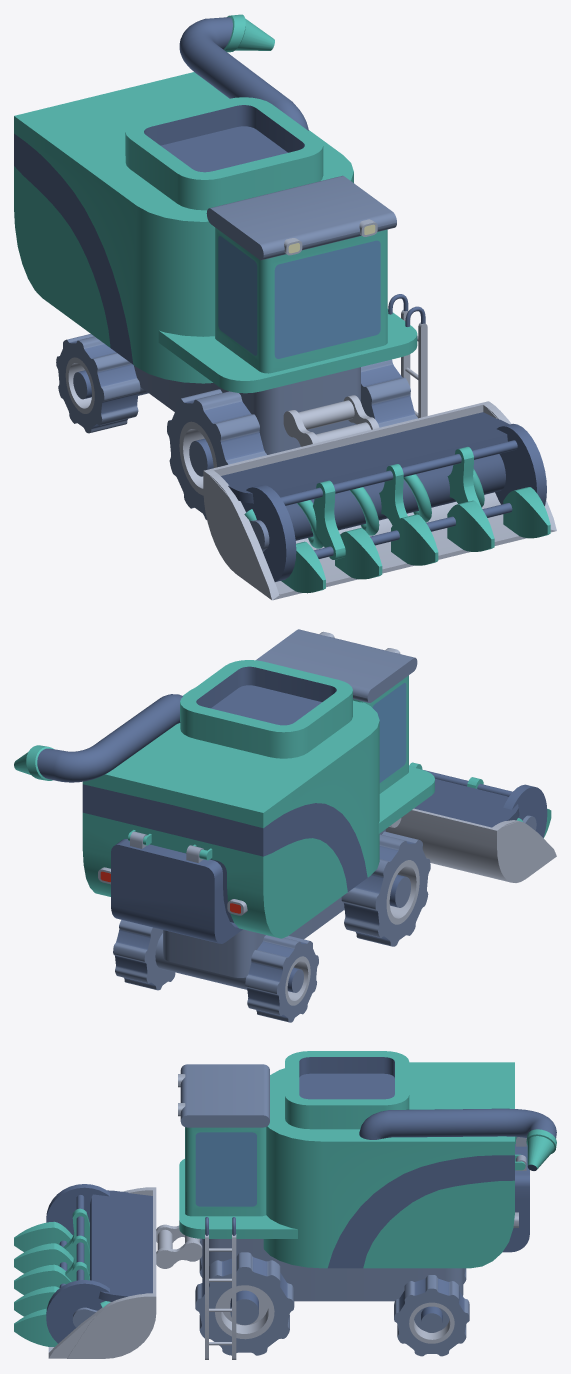
File: Harvester.fbx
3 renders of one model, top to bottom at view 1: azimuth 30°, elevation 25°; view 2: azimuth 150°, elevation 25°; view 3: azimuth 270°, elevation 25°, orthographic. The views are drawn at different scales.
Parts seen in each view (by area): view 1: Body, nozzle 001, Thresher, Wheel harvester front, Wheel harvester back right, Tube, Nozzle 002, nozzle Spiral, Nozzle 01; view 2: Body, Door, nozzle 001, Wheel harvester front, Tube, Wheel harvester back right, Wheel harvester back left, Thresher, Nozzle 002, Wheel harvester back; view 3: Body, nozzle 001, Wheel harvester front, Tube, Thresher, Wheel harvester back left, Nozzle 002, Door, Nozzle 02.
Boxes of the visible parts, x1,y1,x2,y2 form: Body: [14, 72, 427, 454]; nozzle 001: [203, 401, 556, 600]; Thresher: [241, 423, 546, 581]; Wheel harvester front: [167, 359, 417, 519]; Wheel harvester back right: [56, 334, 140, 433]; Tube: [179, 14, 308, 130]; Nozzle 002: [211, 401, 511, 512]; nozzle Spiral: [244, 469, 484, 548]; Nozzle 01: [283, 395, 378, 446]; Body: [82, 629, 434, 977]; Door: [111, 831, 242, 943]; nozzle 001: [386, 778, 556, 882]; Wheel harvester front: [341, 831, 430, 946]; Tube: [14, 694, 182, 782]; Wheel harvester back right: [245, 935, 318, 1022]; Wheel harvester back left: [113, 920, 175, 990]; Thresher: [409, 762, 547, 837]; Nozzle 002: [422, 820, 517, 882]; Wheel harvester back: [155, 933, 247, 989]; Body: [178, 1051, 525, 1359]; nozzle 001: [14, 1187, 172, 1358]; Wheel harvester front: [195, 1238, 294, 1355]; Tube: [359, 1108, 556, 1170]; Thresher: [46, 1184, 109, 1343]; Wheel harvester back left: [394, 1275, 469, 1356]; Nozzle 002: [67, 1187, 158, 1358]; Door: [503, 1137, 529, 1252]; Nozzle 02: [156, 1227, 202, 1268].
Bounding box in the file's own units: 4.88 × 4.61 × 9.4.
